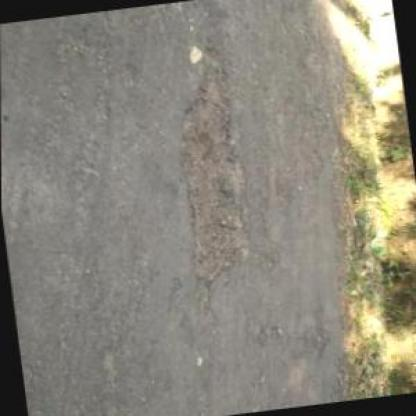pothole: (160, 44, 260, 290), (308, 300, 330, 358)
